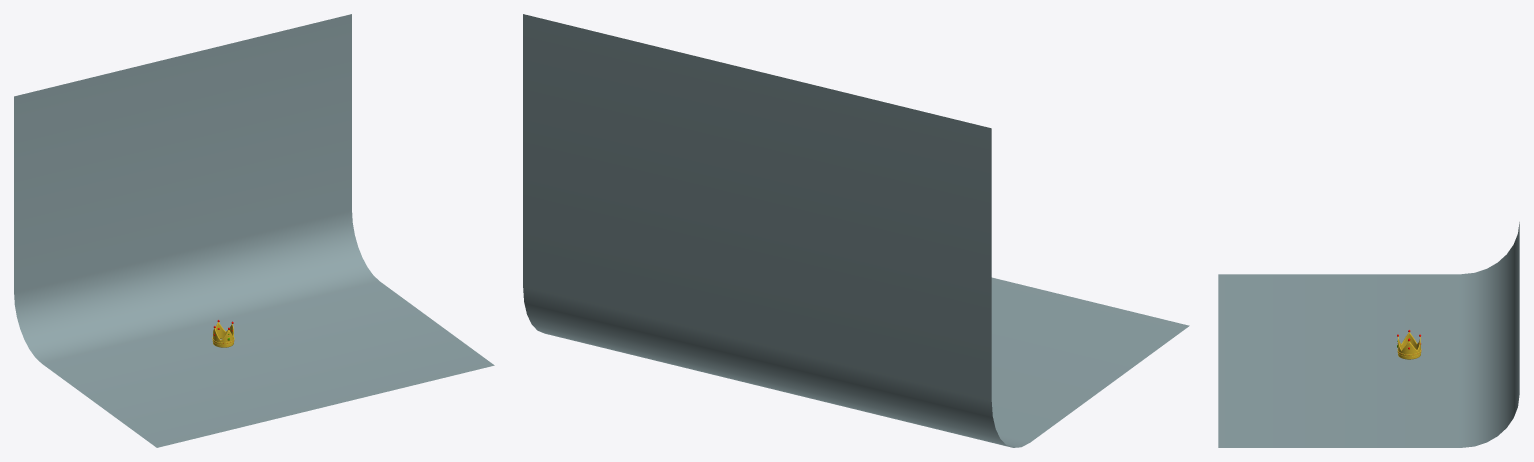
Rendered from crown.FBX.
3 renders of one model, left to right at view 1: azimuth 30°, elevation 25°; view 2: azimuth 150°, elevation 25°; view 3: azimuth 270°, elevation 25°, orthographic. The views are drawn at different scales.
Parts seen in each view (by area): view 1: Line01; view 2: Line01; view 3: Line01, crown.
Part boxes in pixels (x1,y1,x2,y2): Line01: (14,14,494,447); Line01: (523,14,1189,447); Line01: (1218,222,1519,447); crown: (1397,332,1421,359).
Size of the model in its own units: 456 by 318 by 334.
